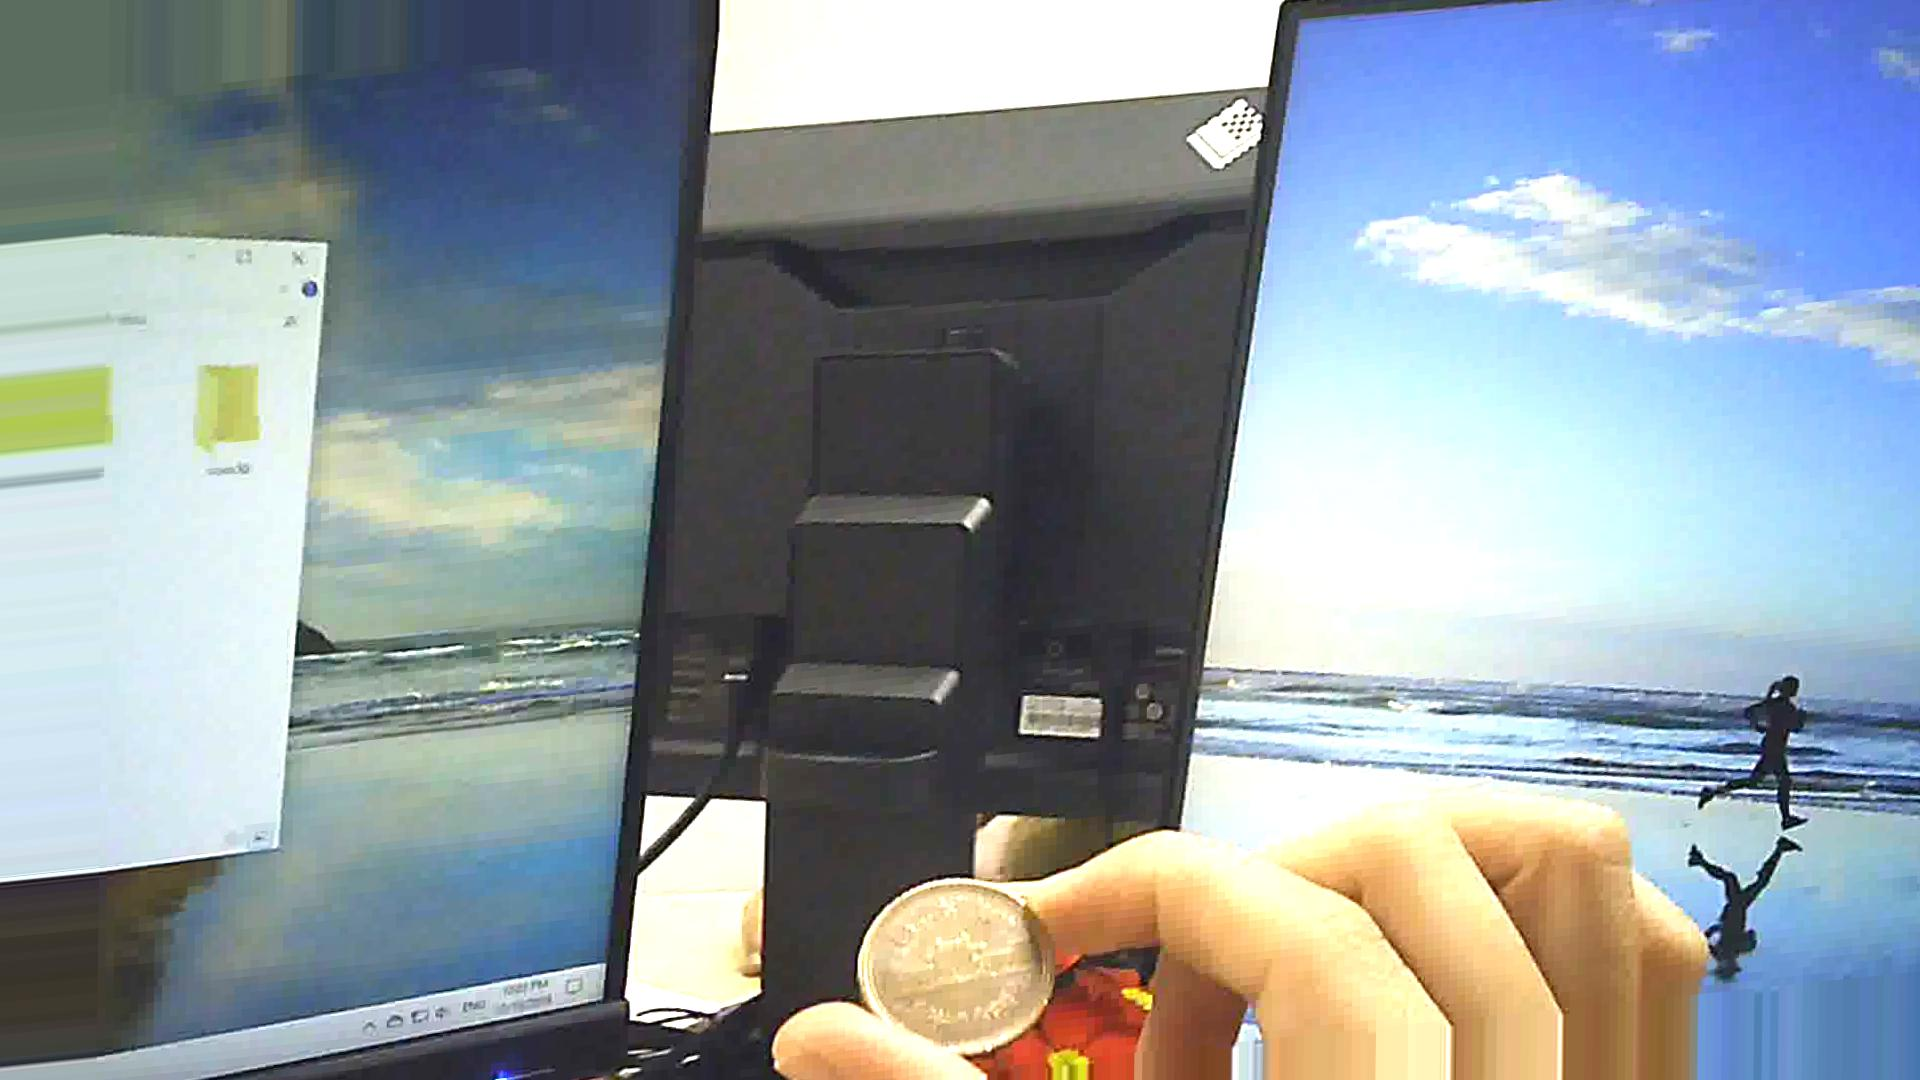10 Yen: (847, 866, 1096, 1060)
